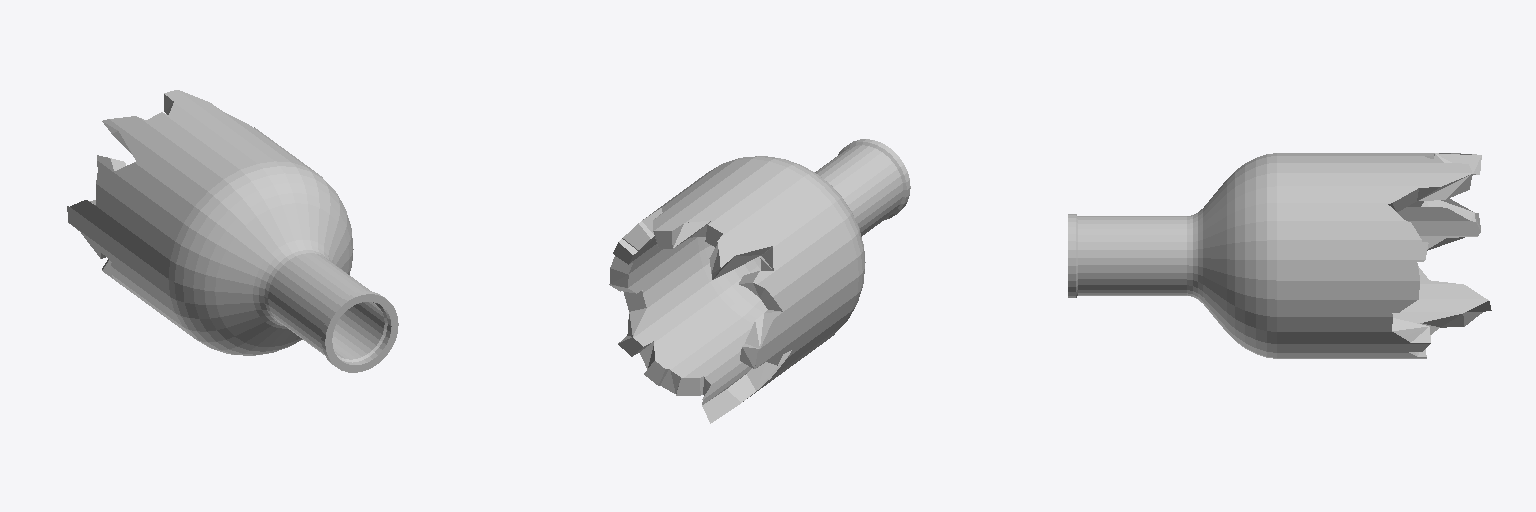
The model's file is Bottle1.obj.
3 views of the same model, side by side, from view 1: azimuth 30°, elevation 25°; view 2: azimuth 150°, elevation 25°; view 3: azimuth 270°, elevation 25° (orthographic).
Visible parts, largest first — view 1: Bottle1; view 2: Bottle1; view 3: Bottle1.
Part boxes in pixels (bbox=[...]): Bottle1: bbox=[67, 90, 398, 372]; Bottle1: bbox=[609, 139, 910, 423]; Bottle1: bbox=[1068, 153, 1491, 358].
Size of the model in its own units: 2 by 2 by 4.11.